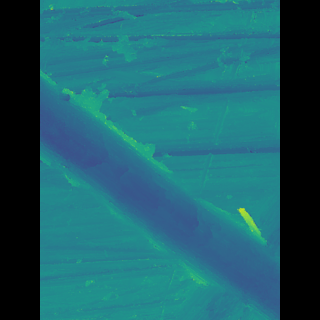Loch: (69, 66, 250, 319)
